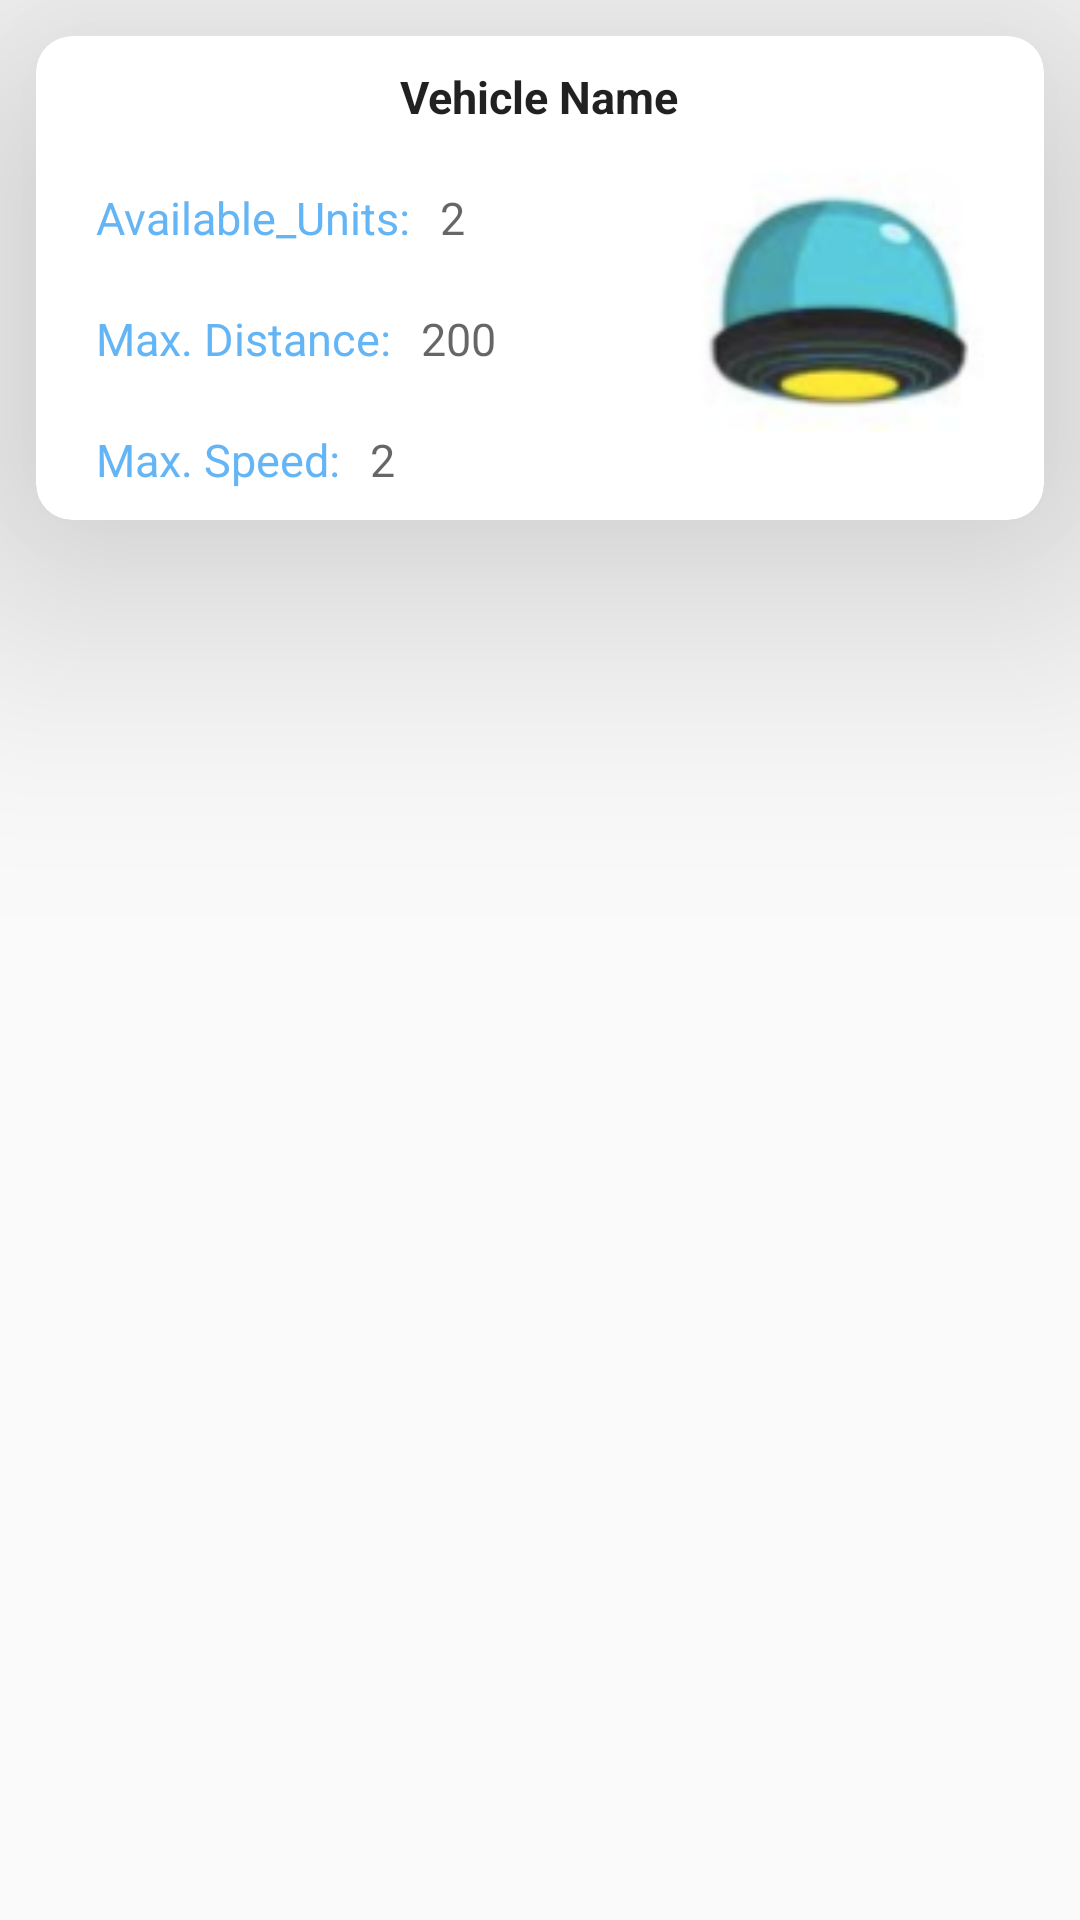

Icon click points for this 1080 x 1920 phone screenshot, format (x=x, y=y):
space pod: (x=838, y=301)
